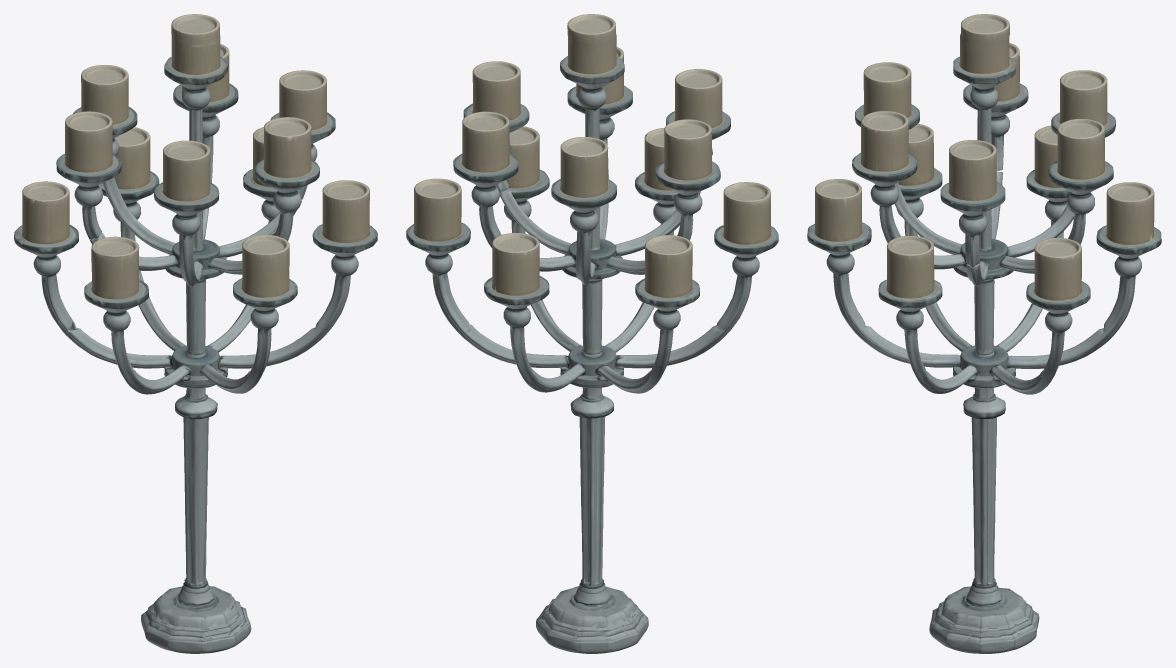
File: design-candelabrum-crystal.glb
3 renders of one model, left to right at view 1: azimuth 30°, elevation 25°; view 2: azimuth 150°, elevation 25°; view 3: azimuth 270°, elevation 25°, orthographic.
Parts seen in each view (by area): view 1: tripo_node_e640aff2-1688-4f88-9c56-b4a5713147a6; view 2: tripo_node_e640aff2-1688-4f88-9c56-b4a5713147a6; view 3: tripo_node_e640aff2-1688-4f88-9c56-b4a5713147a6.
Boxes of the visible parts, <box> form: tripo_node_e640aff2-1688-4f88-9c56-b4a5713147a6: <box>14,14,377,653</box>; tripo_node_e640aff2-1688-4f88-9c56-b4a5713147a6: <box>406,14,778,653</box>; tripo_node_e640aff2-1688-4f88-9c56-b4a5713147a6: <box>807,14,1161,653</box>.
Size of the model in its own units: 0.3717 by 0.75 by 0.3946.
Materials: 1 (1 with a texture image).
